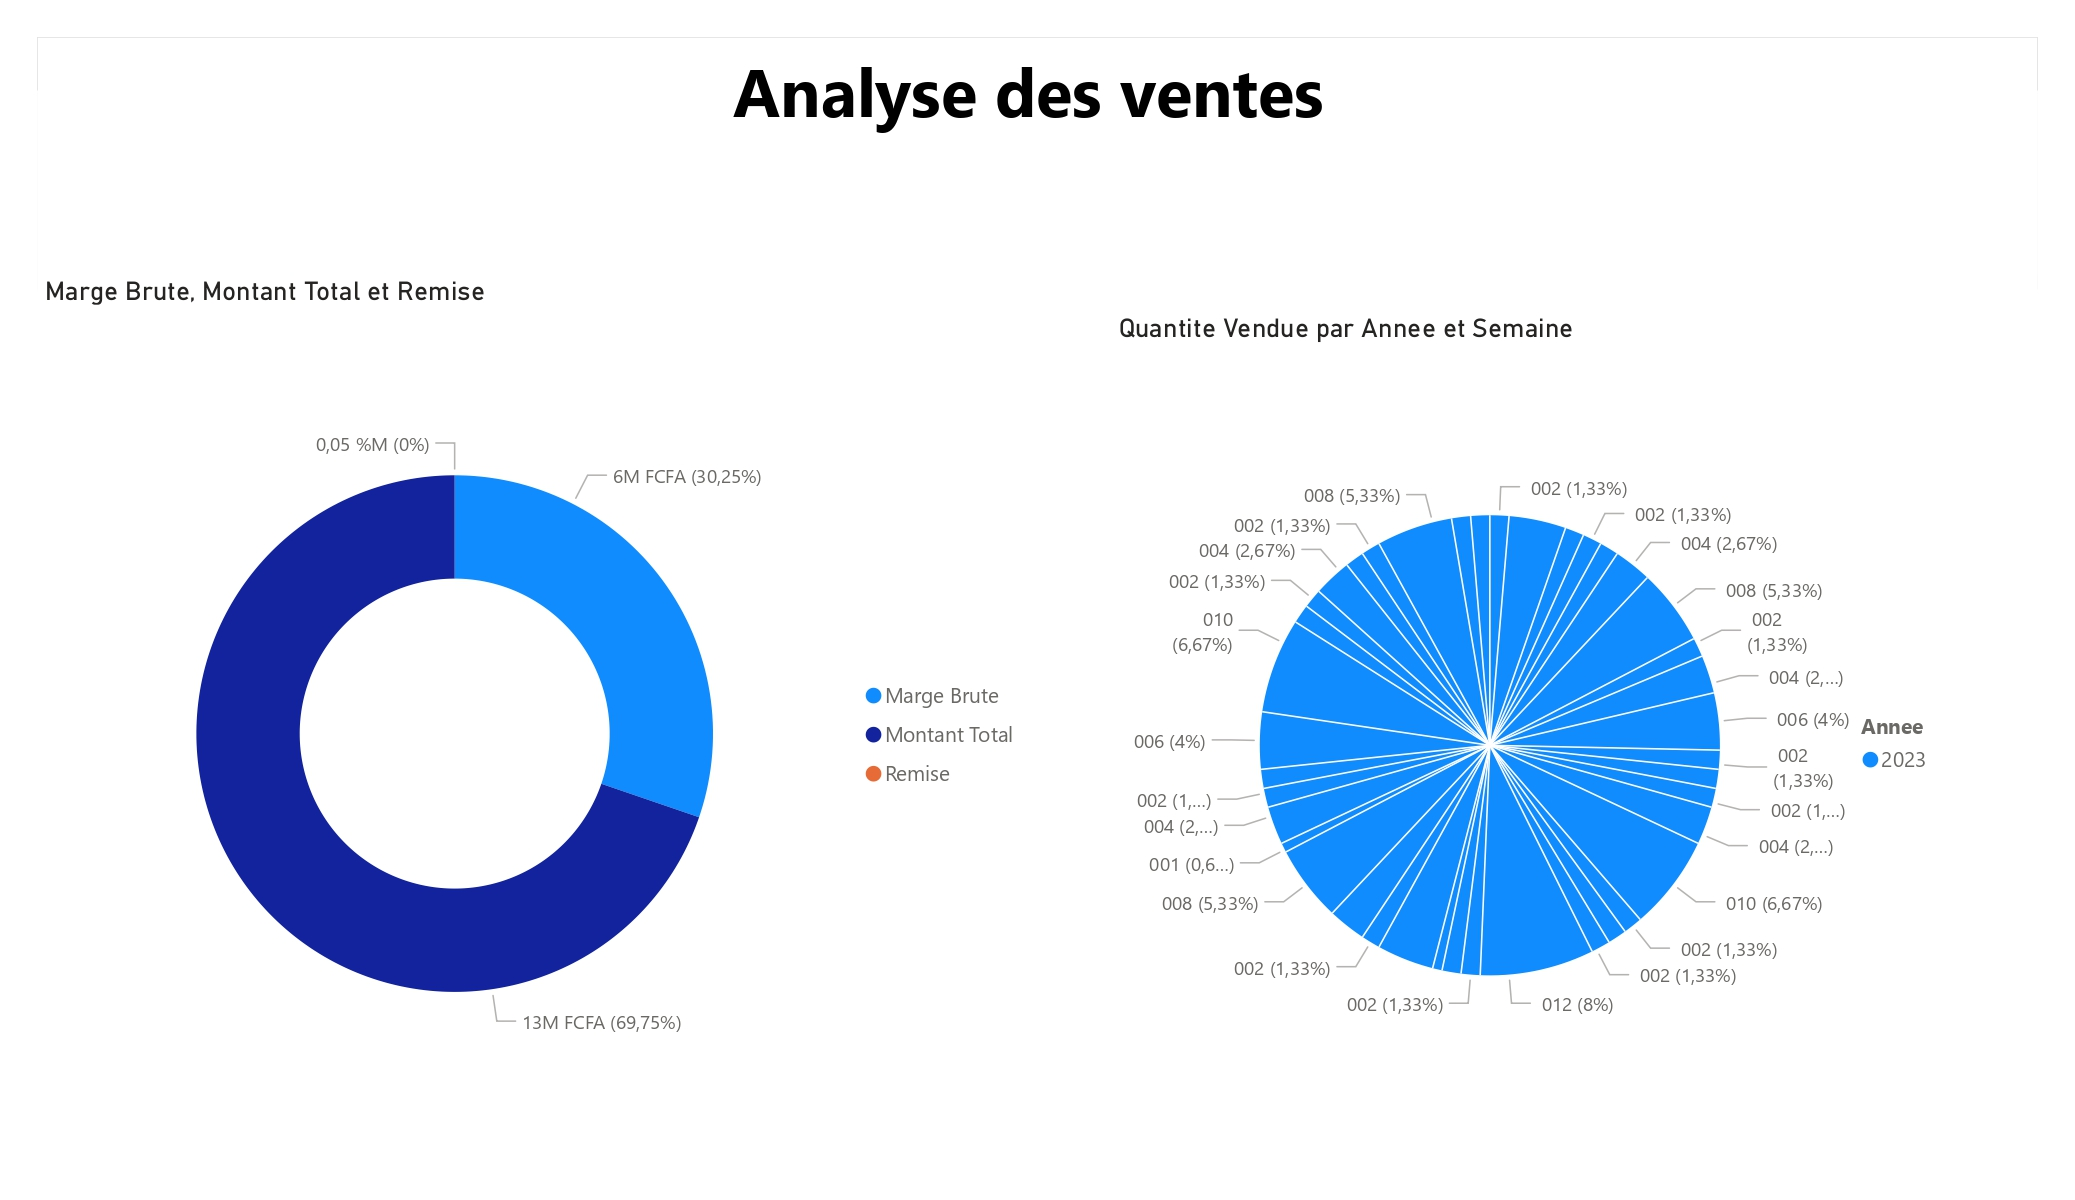

The dashboard page shown, as its layout file describes it:
{"tool":"powerbi","page":{"name":"Analyse des ventes","canvas":[1280,720],"ordinal":1},"visuals":[{"type":"pieChart","fields":{"Category":["DIM DATE.Annee","DIM DATE.Mois"],"Y":["FAIT VENTES.Quantite Vendue"],"Series":["DIM DATE.Semaine"]},"box":[687.1,176.3,545.2,534.8],"z":0},{"type":"donutChart","fields":{"Y":["FAIT VENTES.Marge Brute","FAIT VENTES.Montant Total","FAIT VENTES.Remise"]},"box":[0,152.4,639.3,567.6],"z":1000},{"type":"textbox","box":[0,0,1280.2,152.4],"z":2000}]}

Visuals, with their boxes on the page's 1280x720 design canvas (x1, y1, x2, y2). These are canvas units, not pixel positions in the 2075x1200 screenshot, which may show the page scaled, cropped or inside an application window:
pieChart - DIM DATE.Annee x DIM DATE.Mois: [687, 176, 1232, 711]
donutChart - FAIT VENTES.Marge Brute x FAIT VENTES.Montant Total: [0, 152, 639, 720]
textbox: [0, 0, 1280, 152]
